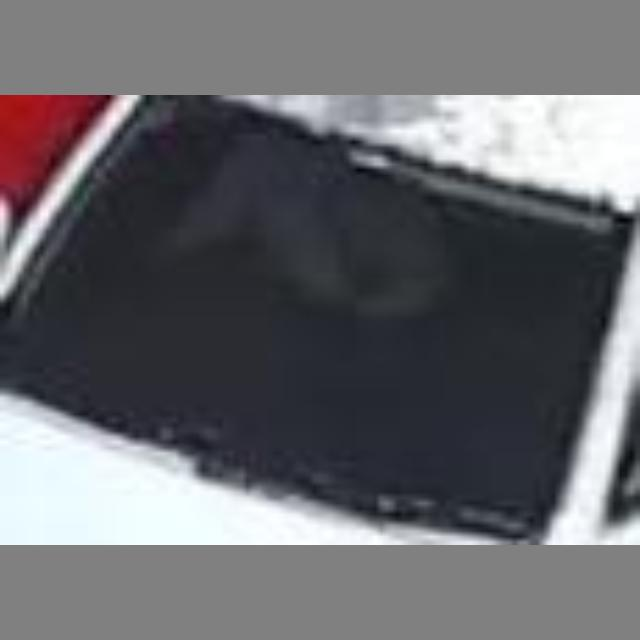pakai: (200, 140, 467, 345)
